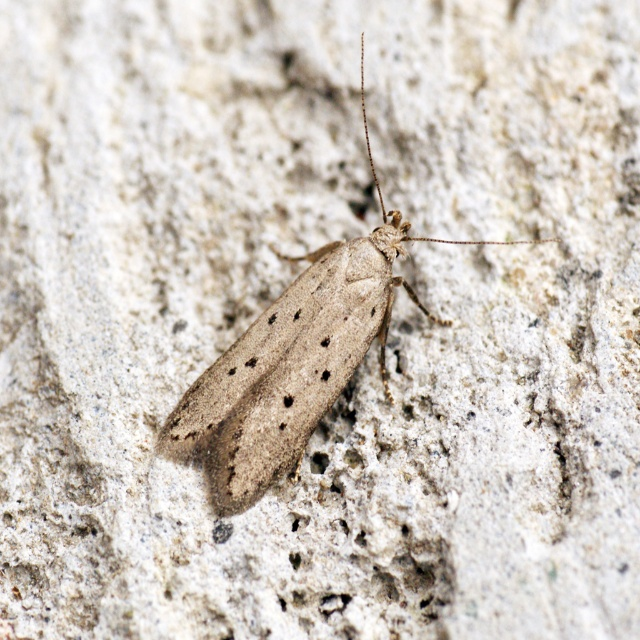Moths and butterflies: (148, 30, 567, 516)
